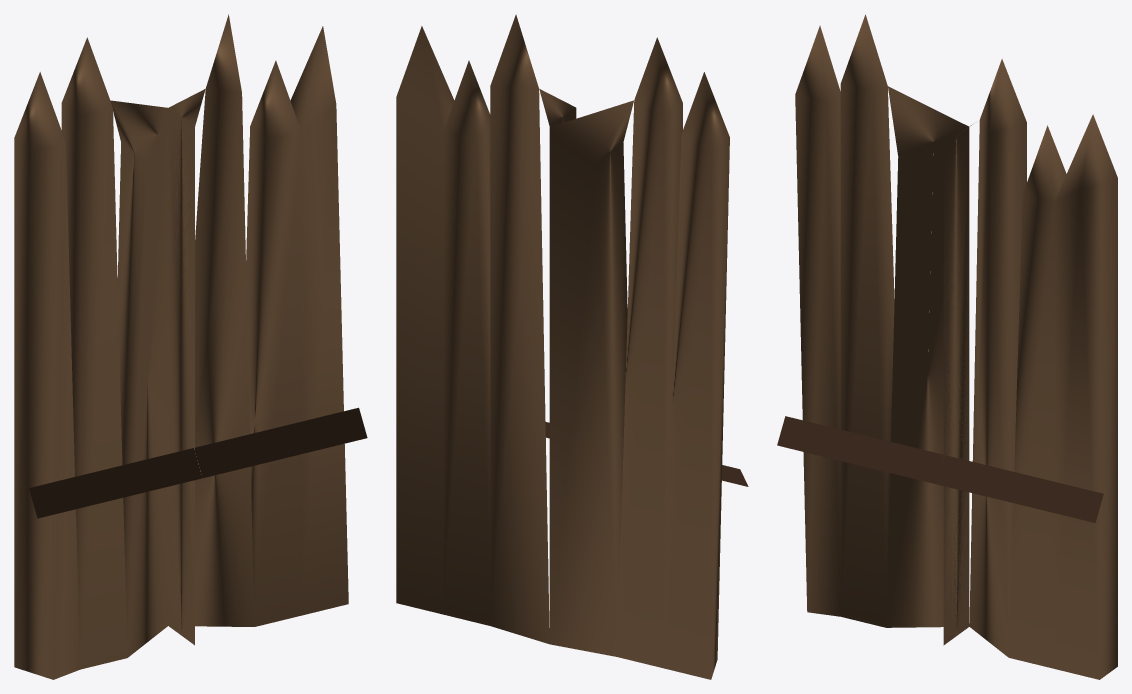
Rendered from palisade_lod1.glb.
The picture shows the model from 3 angles, left to right: view 1: azimuth 30°, elevation 25°; view 2: azimuth 150°, elevation 25°; view 3: azimuth 330°, elevation 25°; orthographic projection. The views are drawn at different scales.
Size of the model in its own units: 2 by 3.6 by 0.3599.
